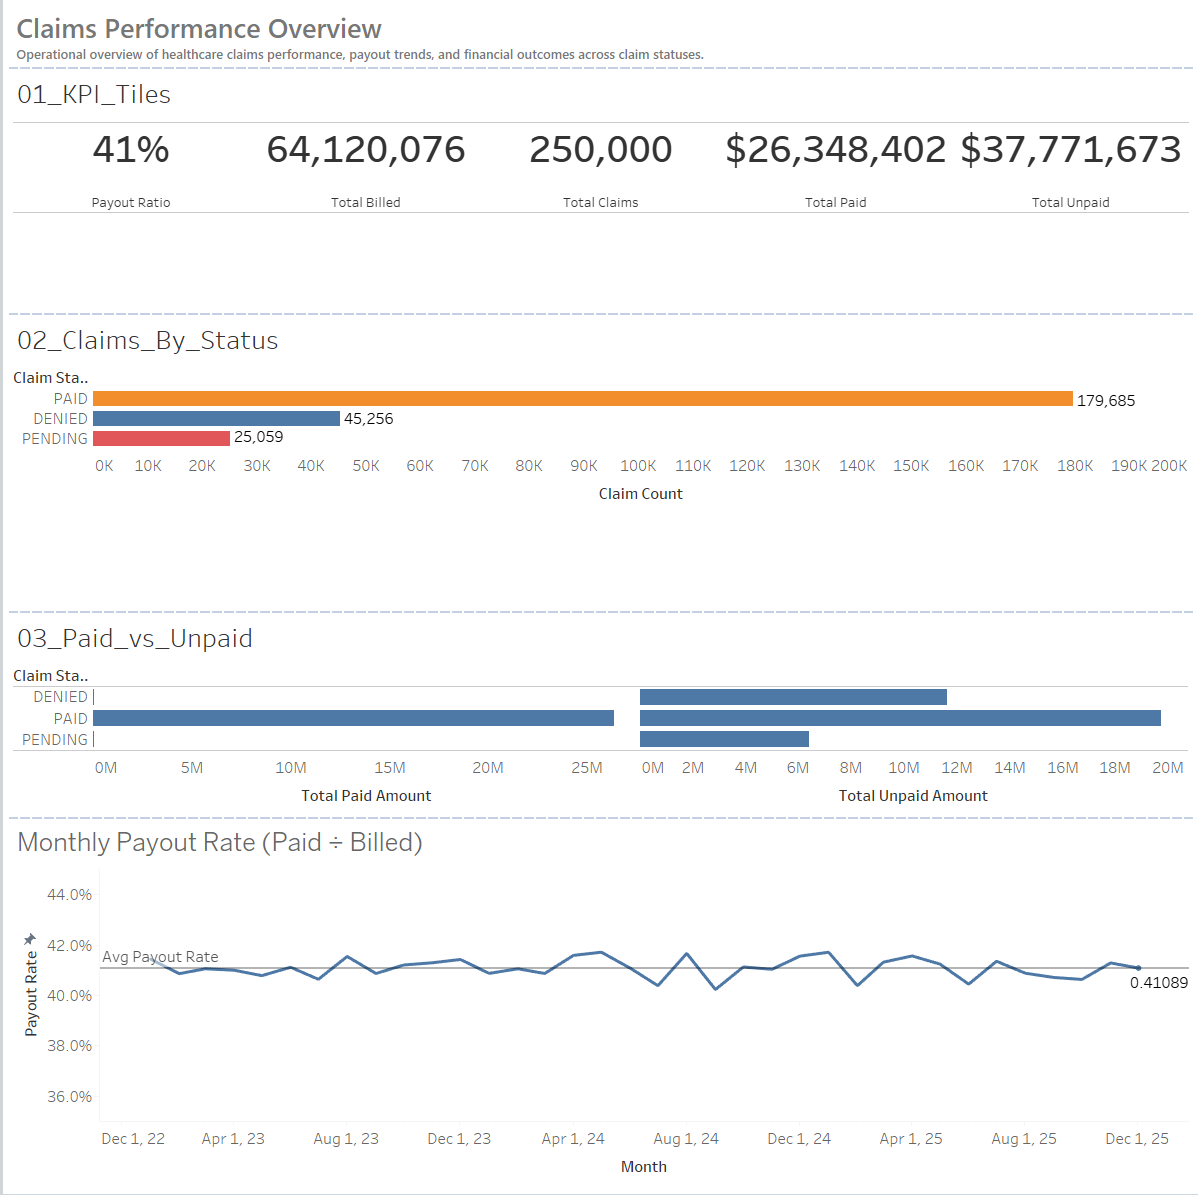

What the dashboard file says about the page in this screenshot:
{"tool":"tableau","page":{"name":"Dashboard 1","canvas":[1200,1000],"ordinal":0},"visuals":[{"type":"text","box":[8,16,1184,43]},{"type":"worksheet","title":"Claims KPIs","mark":"Automatic","box":[8,67,1184,434.5]},{"type":"worksheet","title":"Claims by Status","mark":"Automatic","rows":["claim_count"],"cols":["claim_status"],"box":[8,501.5,592,490.5]},{"type":"worksheet","title":"Paid vd Unpaid by Status","mark":"Automatic","rows":["claim_status"],"box":[600,501.5,592,490.5]}]}

Visuals, with their boxes on the page's 1200x1000 design canvas (x1, y1, x2, y2). These are canvas units, not pixel positions in the 1198x1195 screenshot, which may show the page scaled, cropped or inside an application window:
text: select_region(8, 16, 1192, 59)
"Claims KPIs" worksheet: select_region(8, 67, 1192, 502)
"Claims by Status" worksheet: select_region(8, 502, 600, 992)
"Paid vd Unpaid by Status" worksheet: select_region(600, 502, 1192, 992)
